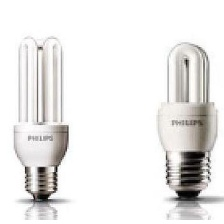light_bulb: (153, 38, 222, 203), (10, 34, 70, 207)
